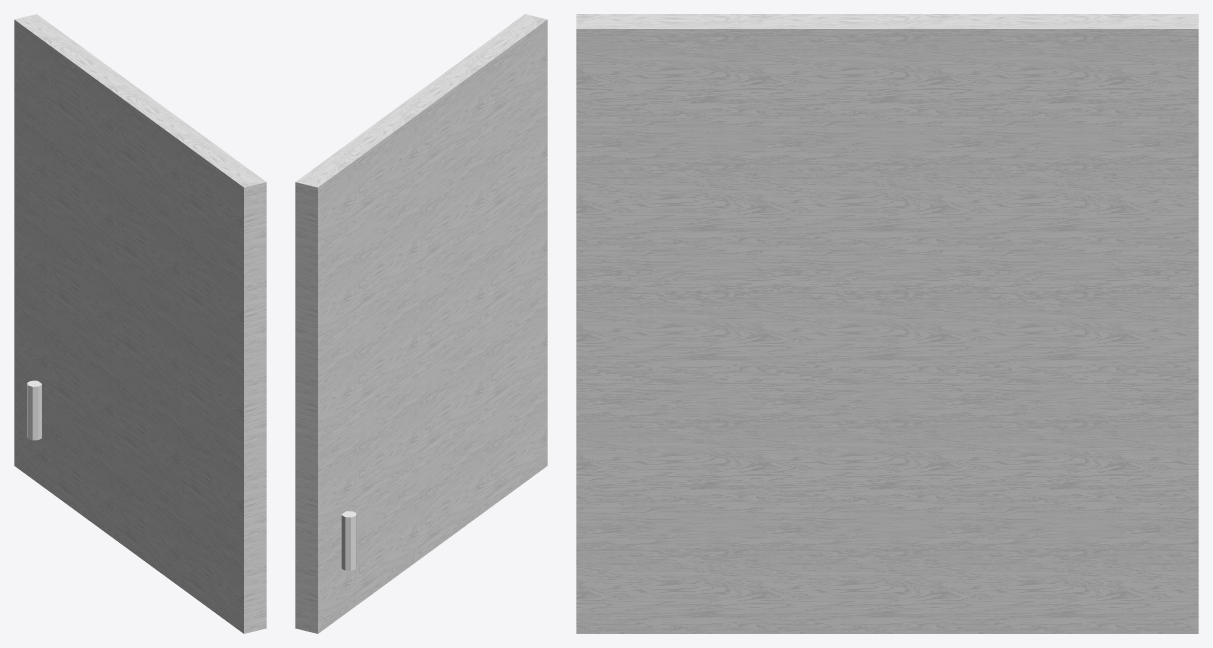
Rendered from Cabinet_ab4ae10f.obj.
The picture shows the model from 3 angles, left to right: view 1: azimuth 30°, elevation 25°; view 2: azimuth 150°, elevation 25°; view 3: azimuth 270°, elevation 25°; orthographic projection. The views are drawn at different scales.
Parts seen in each view (by area): view 1: FP405:Cube.1414_c11633d3; view 2: FP405:Cube.1414_c11633d3; view 3: FP405:Cube.1414_c11633d3.
Boxes of the visible parts, <box> form: FP405:Cube.1414_c11633d3: <box>14,14,266,633</box>; FP405:Cube.1414_c11633d3: <box>295,14,547,633</box>; FP405:Cube.1414_c11633d3: <box>576,14,1198,633</box>.
Size of the model in its own units: 0.0378 by 0.4633 by 0.4321.
